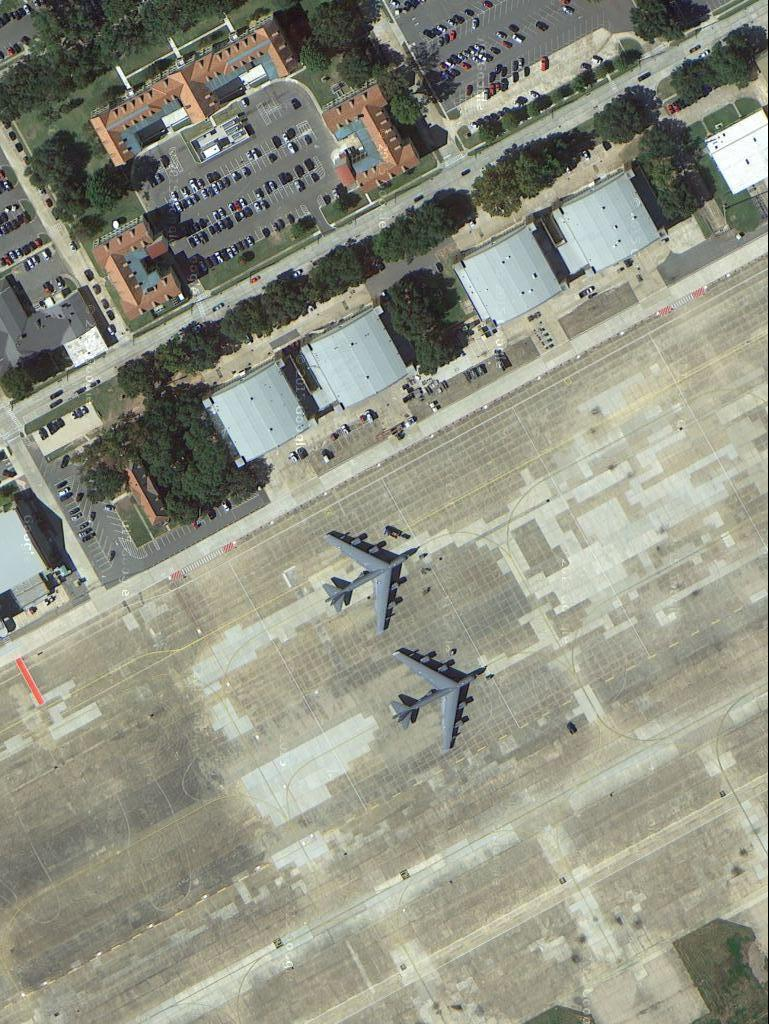B-52: (319, 529, 419, 639), (387, 643, 481, 755)
